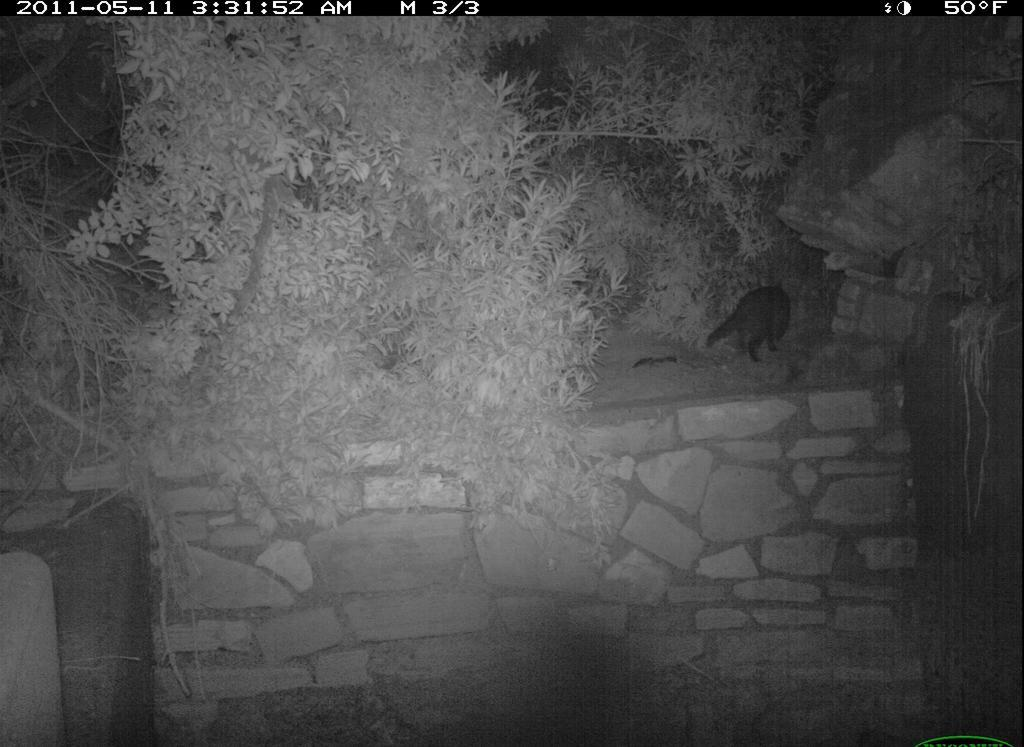cat: (705, 274, 797, 366)
